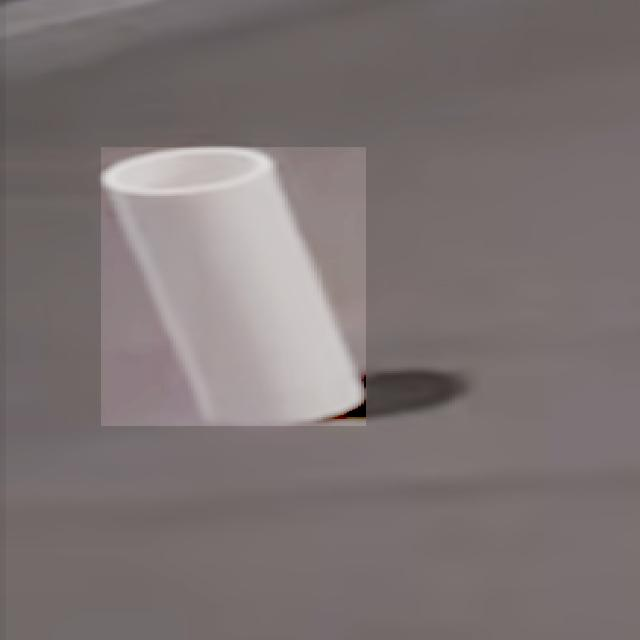Coral: (101, 147, 366, 426)
